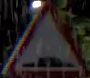Speed Breaker ahead: (3, 1, 88, 77)
